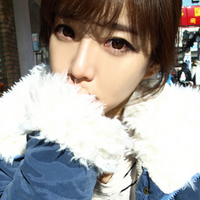face: (48, 1, 150, 117)
